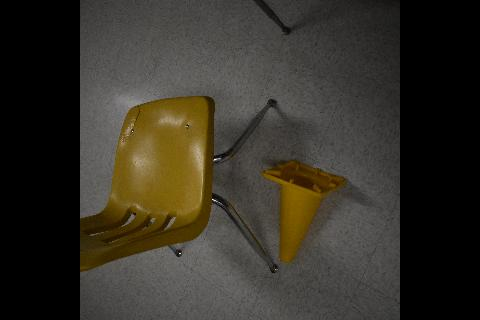cone: (261, 158, 349, 264)
